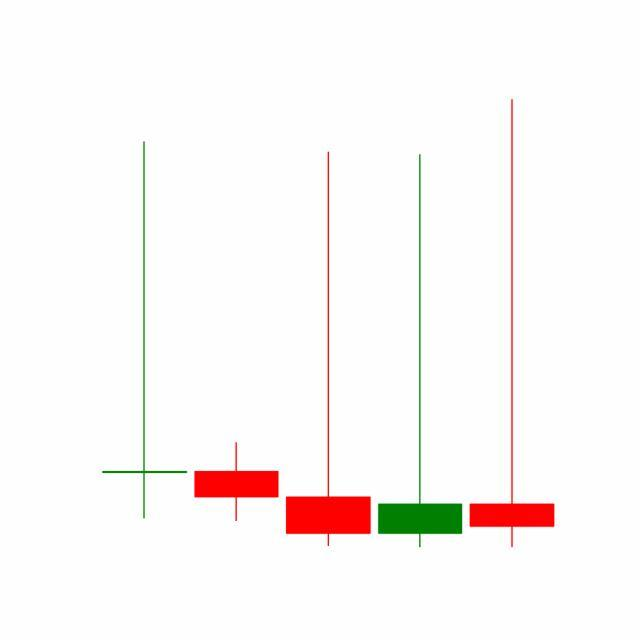Gravestone Doji: (374, 151, 468, 553)
